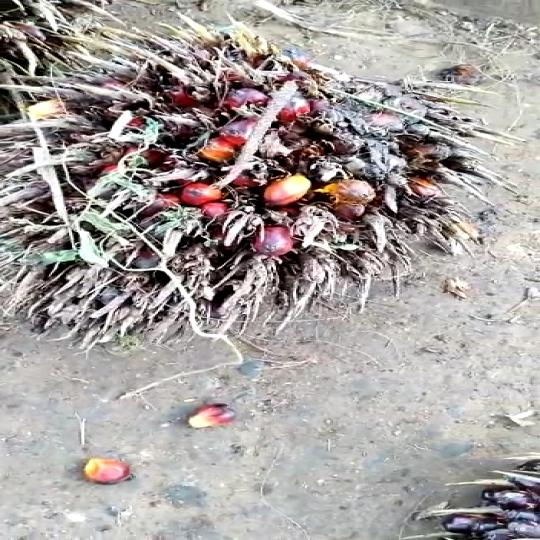terlalu masak: (0, 7, 516, 361)
